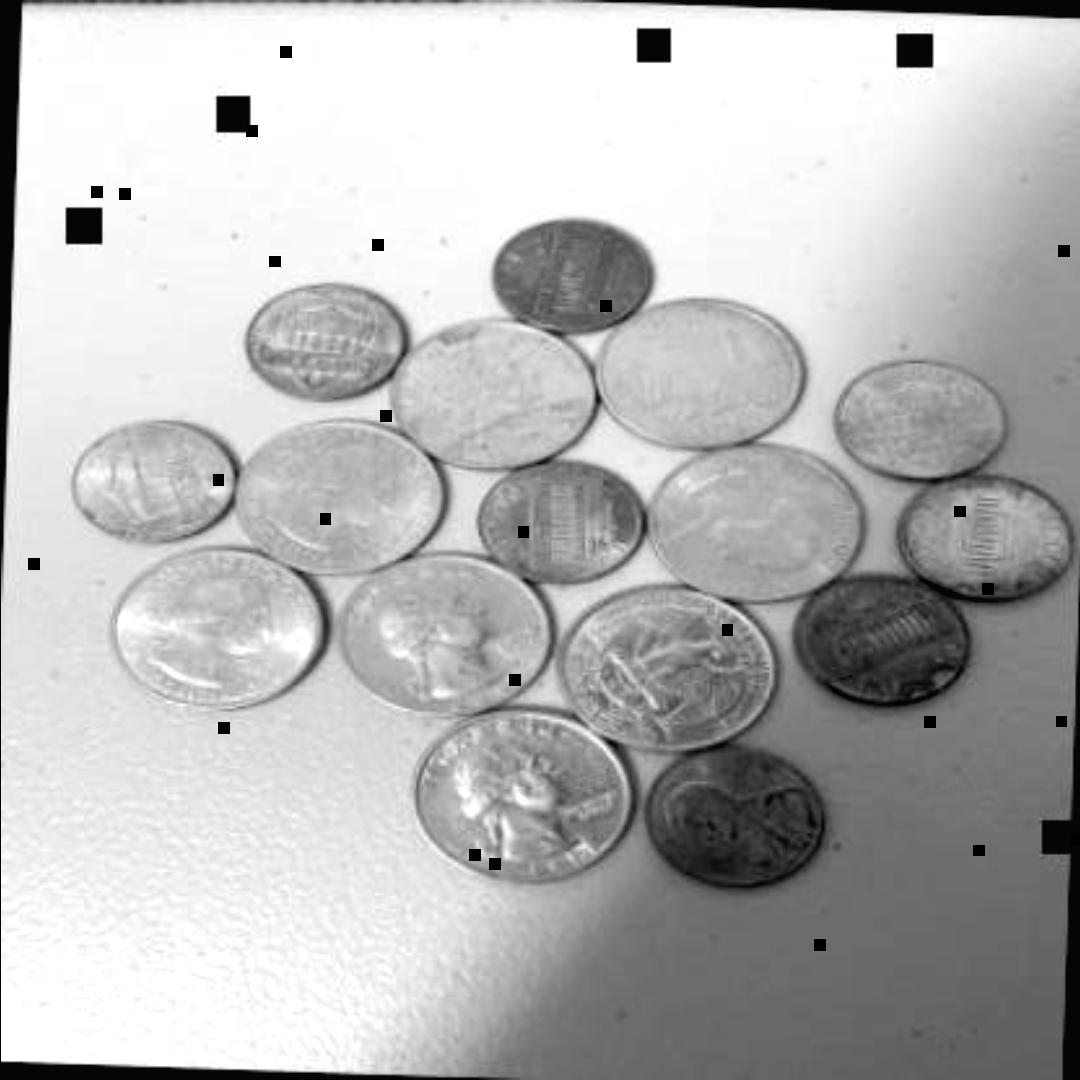Penny: (635, 738, 827, 894), (786, 568, 976, 704), (466, 456, 650, 586), (896, 469, 1074, 601), (63, 416, 234, 550), (237, 276, 408, 404), (483, 208, 649, 338), (832, 352, 1006, 476)
Quarter: (402, 706, 634, 886), (332, 547, 556, 715), (101, 542, 324, 710), (554, 582, 776, 744), (588, 292, 806, 455), (643, 440, 861, 602), (223, 418, 441, 572), (386, 316, 592, 470)
